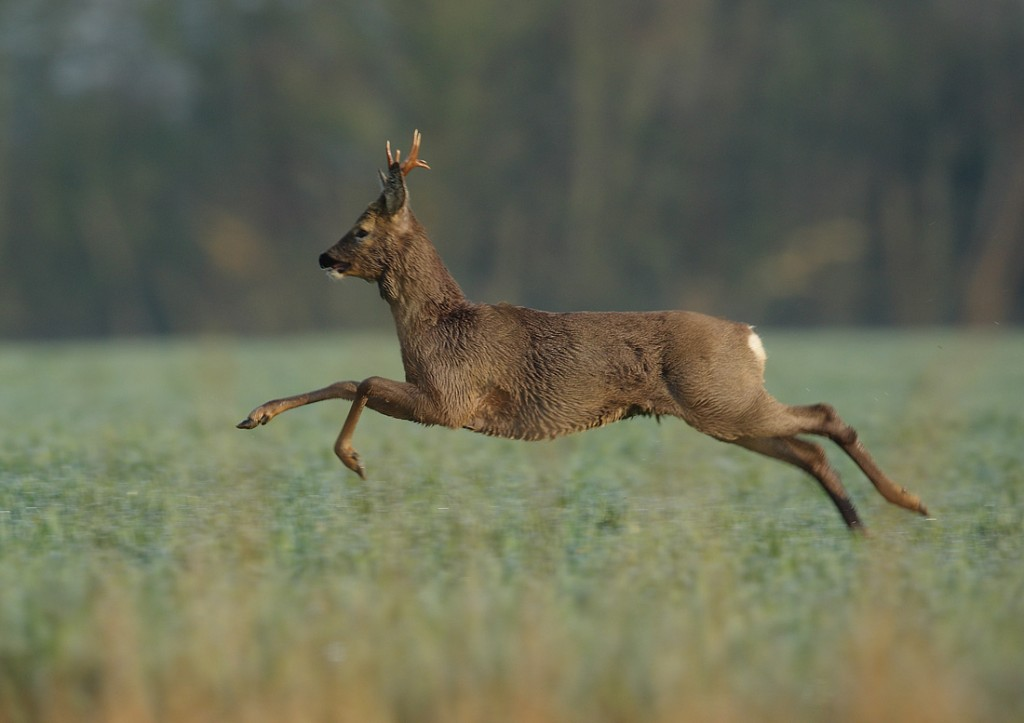Blackbuck: (229, 119, 942, 544)
